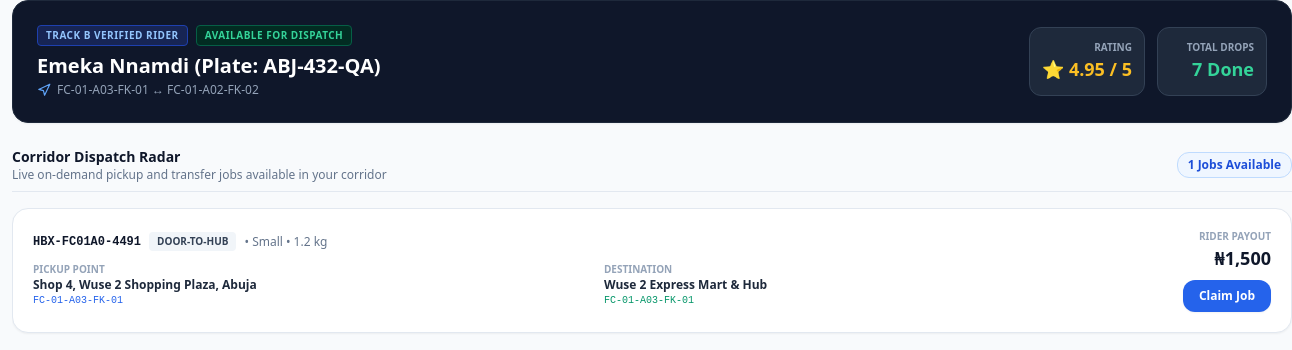
Scenario: RiderRadarConsole › claims a job through the accept endpoint and removes it from the radar
The width and height of the screenshot is (1292, 350).
Click the button "Claim Job" at (1227, 296), box [1183,280,1271,312]
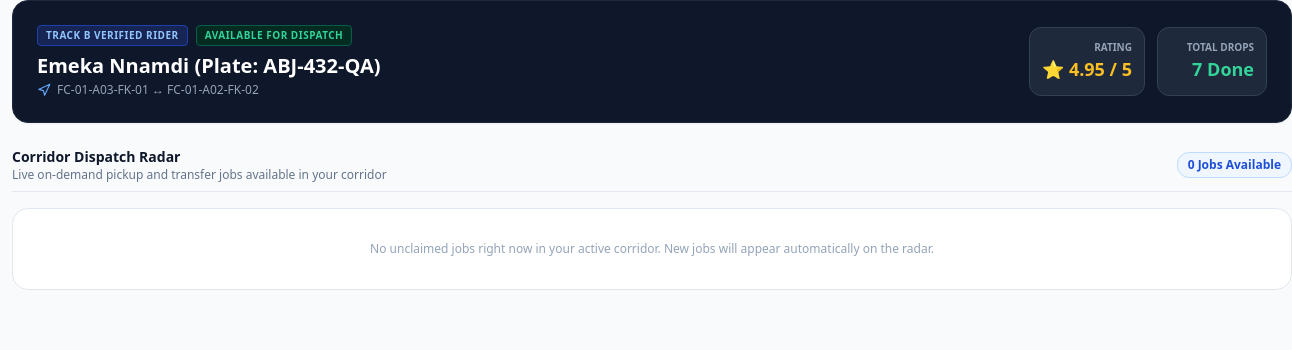
Expected: the text "No unclaimed jobs right now" is shown, [370,240,934,257]
